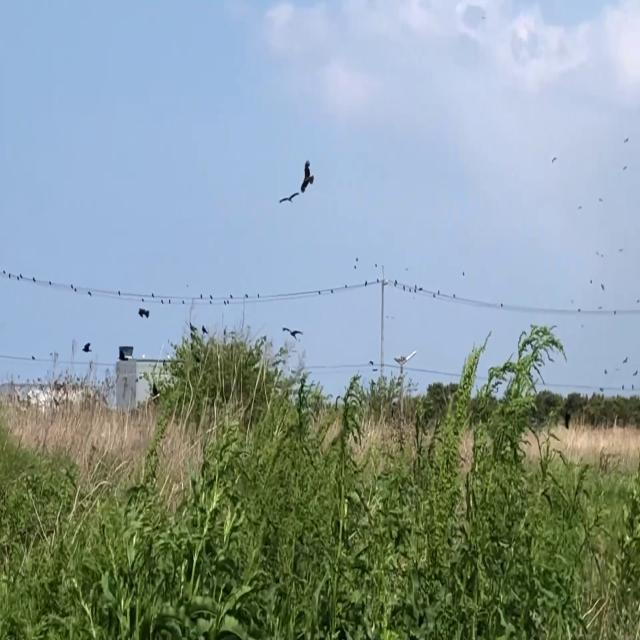bird: (288, 152, 312, 211), (138, 300, 149, 322), (82, 335, 92, 356)
